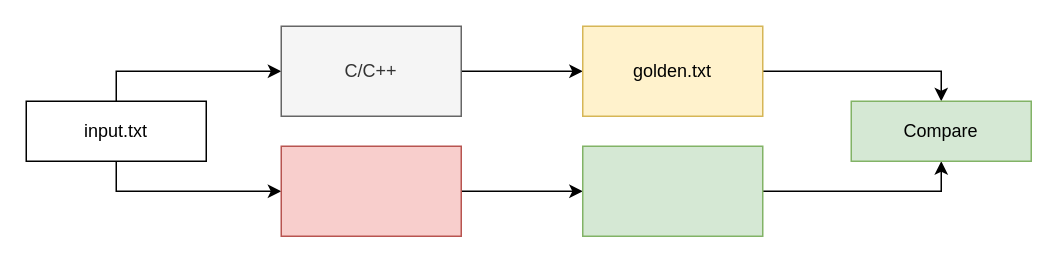
Image size: 1058x263. Some labels were removed from this diagram. The shapes that lost their labels are listed below. From the top down, each one's centre as x and y in pixels, then its label:
At (x=370, y=190): "DUT".
At (x=672, y=190): "Result".
